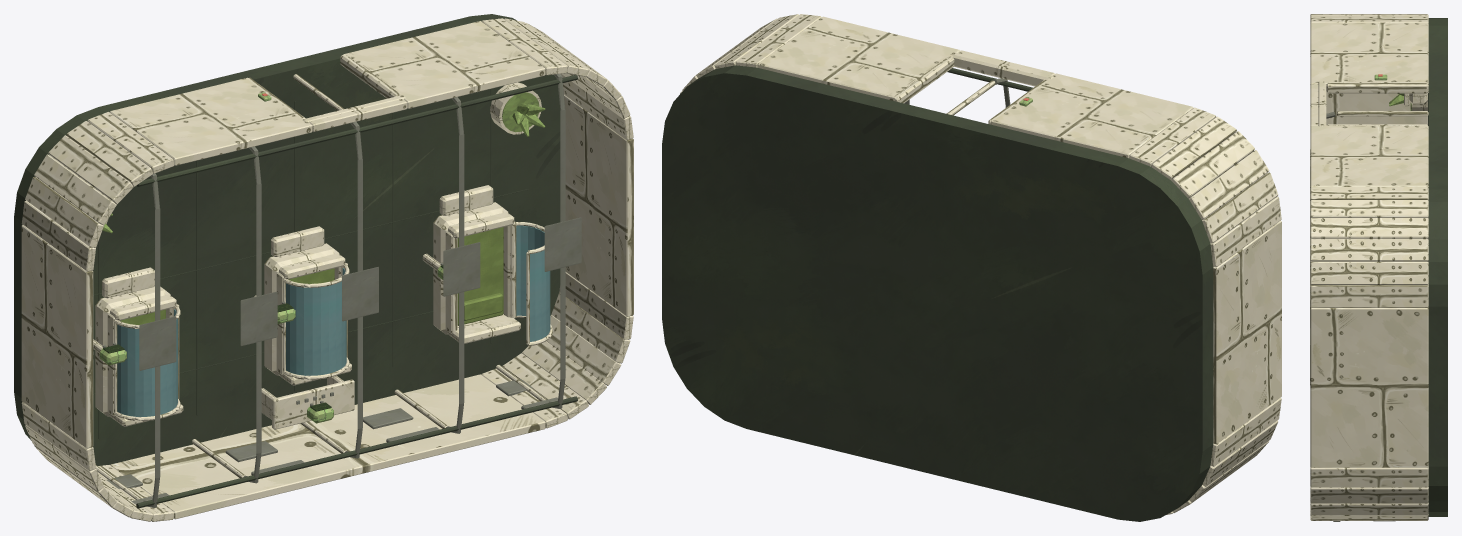
The model's file is ECHO7_04_Despertar.obj.
3 views of the same model, side by side, from view 1: azimuth 30°, elevation 25°; view 2: azimuth 150°, elevation 25°; view 3: azimuth 270°, elevation 25° (orthographic). The views are drawn at different scales.
Visible parts, largest first — view 1: ECHO7_04_Despertar__Suelo_modulo_01, ECHO7_04_Despertar__Pared_presion_07, ECHO7_04_Despertar__Pared_presion_27, ECHO7_04_Despertar__Pared_presion_14, ECHO7_04_Despertar__Pared_frente_02, ECHO7_04_Despertar__Pared_frente_01, ECHO7_04_Despertar__Conducto_superior_02, ECHO7_04_Despertar__Conducto_superior_01, ECHO7_04_Despertar__Pared_presion_24, ECHO7_04_Despertar__Pared_presion_23, ECHO7_04_Despertar__Mesa_tablero_01, ECHO7_04_Despertar__Pared_presion_25 (+48 smaller); view 2: ECHO7_04_Despertar__Suelo_modulo_01, ECHO7_04_Despertar__Pared_presion_27, ECHO7_04_Despertar__Pared_frente_02, ECHO7_04_Despertar__Pared_frente_01, ECHO7_04_Despertar__Pared_presion_24, ECHO7_04_Despertar__Pared_presion_23, ECHO7_04_Despertar__Pared_presion_25, ECHO7_04_Despertar__Pared_presion_22, ECHO7_04_Despertar__Pared_presion_26, ECHO7_04_Despertar__Pared_presion_21, ECHO7_04_Despertar__Pared_presion_01, ECHO7_04_Despertar__Dintel_puerta_01 (+4 smaller); view 3: ECHO7_04_Despertar__Pared_presion_14, ECHO7_04_Despertar__Suelo_modulo_01, ECHO7_04_Despertar__Pared_frente_01, ECHO7_04_Despertar__Pared_frente_02, ECHO7_04_Despertar__Pared_presion_17, ECHO7_04_Despertar__Pared_presion_15, ECHO7_04_Despertar__Pared_presion_16, ECHO7_04_Despertar__Pared_presion_18, ECHO7_04_Despertar__Pared_presion_13, ECHO7_04_Despertar__Pared_presion_27, ECHO7_04_Despertar__Pared_presion_19, ECHO7_04_Despertar__Pared_presion_12 (+11 smaller).
Boxes of the visible parts, x1,y1,x2,y2 form: ECHO7_04_Despertar__Suelo_modulo_01: (14, 14, 560, 465); ECHO7_04_Despertar__Pared_presion_07: (110, 374, 545, 519); ECHO7_04_Despertar__Pared_presion_27: (21, 225, 93, 448); ECHO7_04_Despertar__Pared_presion_14: (564, 94, 633, 316); ECHO7_04_Despertar__Pared_frente_02: (109, 77, 312, 165); ECHO7_04_Despertar__Pared_frente_01: (343, 21, 545, 108); ECHO7_04_Despertar__Conducto_superior_02: (136, 396, 577, 508); ECHO7_04_Despertar__Conducto_superior_01: (137, 75, 577, 186); ECHO7_04_Despertar__Pared_presion_24: (34, 154, 116, 225); ECHO7_04_Despertar__Pared_presion_23: (48, 135, 133, 204); ECHO7_04_Despertar__Mesa_tablero_01: (272, 379, 354, 429); ECHO7_04_Despertar__Pared_presion_25: (25, 176, 103, 247); ECHO7_04_Despertar__Suelo_modulo_01: (662, 65, 1213, 521); ECHO7_04_Despertar__Pared_presion_27: (1213, 220, 1281, 444); ECHO7_04_Despertar__Pared_frente_02: (991, 73, 1193, 158); ECHO7_04_Despertar__Pared_frente_01: (757, 16, 960, 100); ECHO7_04_Despertar__Pared_presion_24: (1189, 150, 1269, 219); ECHO7_04_Despertar__Pared_presion_23: (1171, 131, 1254, 198); ECHO7_04_Despertar__Pared_presion_25: (1202, 172, 1278, 243); ECHO7_04_Despertar__Pared_presion_22: (1151, 116, 1236, 180); ECHO7_04_Despertar__Pared_presion_26: (1210, 196, 1281, 267); ECHO7_04_Despertar__Pared_presion_21: (1129, 107, 1215, 166); ECHO7_04_Despertar__Pared_presion_01: (1210, 397, 1281, 466); ECHO7_04_Despertar__Dintel_puerta_01: (950, 52, 1053, 86); ECHO7_04_Despertar__Pared_presion_14: (1310, 307, 1428, 467); ECHO7_04_Despertar__Suelo_modulo_01: (1428, 18, 1447, 516); ECHO7_04_Despertar__Pared_frente_01: (1310, 125, 1428, 187); ECHO7_04_Despertar__Pared_frente_02: (1310, 22, 1428, 84); ECHO7_04_Despertar__Pared_presion_17: (1310, 238, 1428, 261); ECHO7_04_Despertar__Pared_presion_15: (1310, 284, 1428, 307); ECHO7_04_Despertar__Pared_presion_16: (1310, 262, 1428, 284); ECHO7_04_Despertar__Pared_presion_18: (1310, 217, 1428, 239); ECHO7_04_Despertar__Pared_presion_13: (1310, 467, 1428, 487); ECHO7_04_Despertar__Pared_presion_27: (1326, 92, 1427, 125); ECHO7_04_Despertar__Pared_presion_19: (1310, 200, 1428, 218); ECHO7_04_Despertar__Pared_presion_12: (1310, 487, 1428, 503).
Bounding box in the file's own units: 16.22 × 10.35 × 3.91.
Materials: 9 (9 with a texture image).
